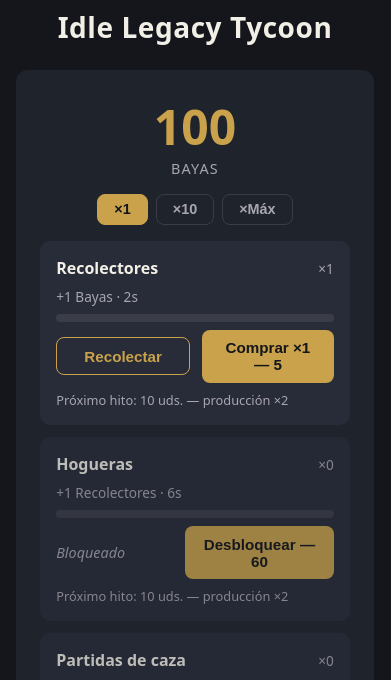
App › compra ×1: descuenta el coste y suma una unidad
The width and height of the screenshot is (391, 680).
Step 1. Click the button with aria-label "Comprar Recolectores" → [268, 356], box [202,330,334,383]
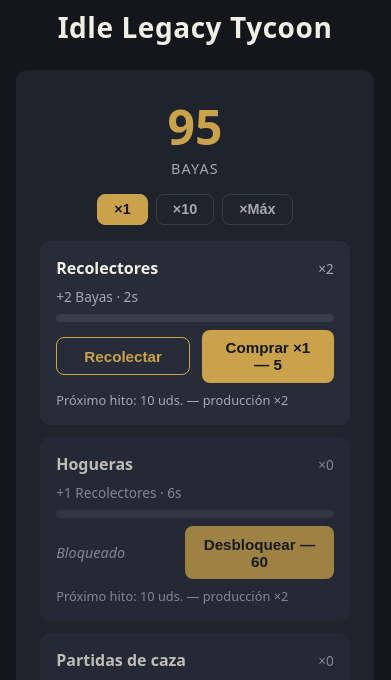
Now the text "×2" is shown, box [318,259,334,278]
Now the text named "Bayas" reads "95", box [168,94,222,159]
